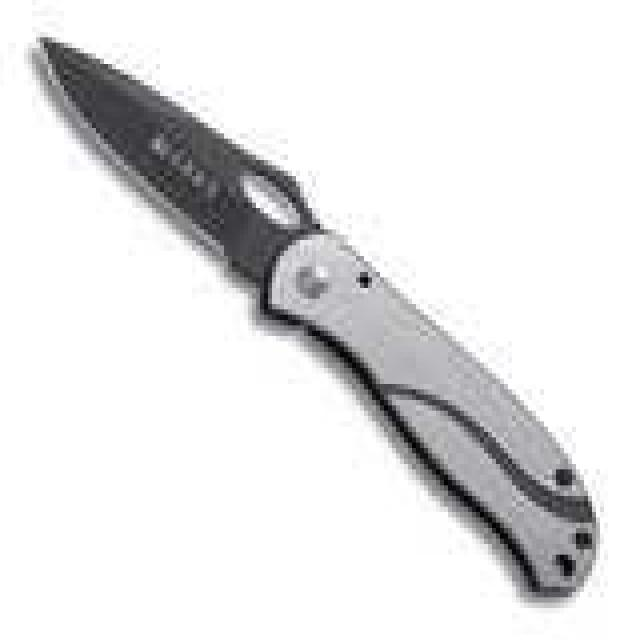Knife: (26, 28, 607, 620)
